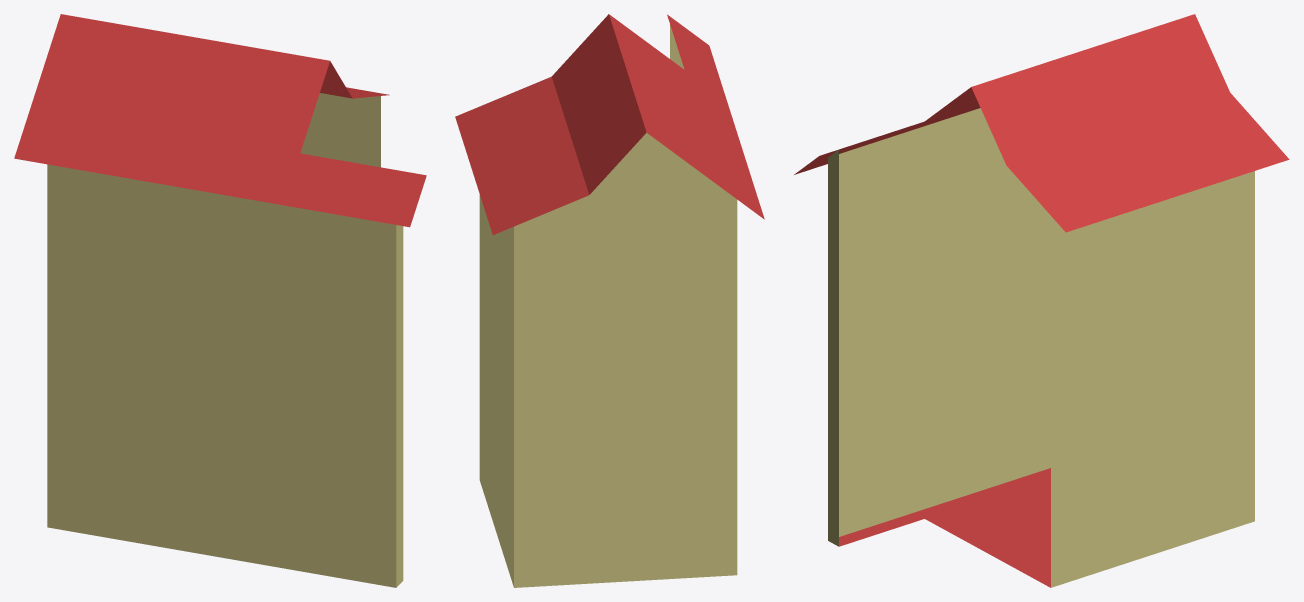
The picture shows the model from 3 angles, left to right: view 1: azimuth 30°, elevation 25°; view 2: azimuth 150°, elevation 25°; view 3: azimuth 270°, elevation 25°; orthographic projection. The views are drawn at different scales.
Bounding box in the file's own units: 7.91 × 10.08 × 10.25.
